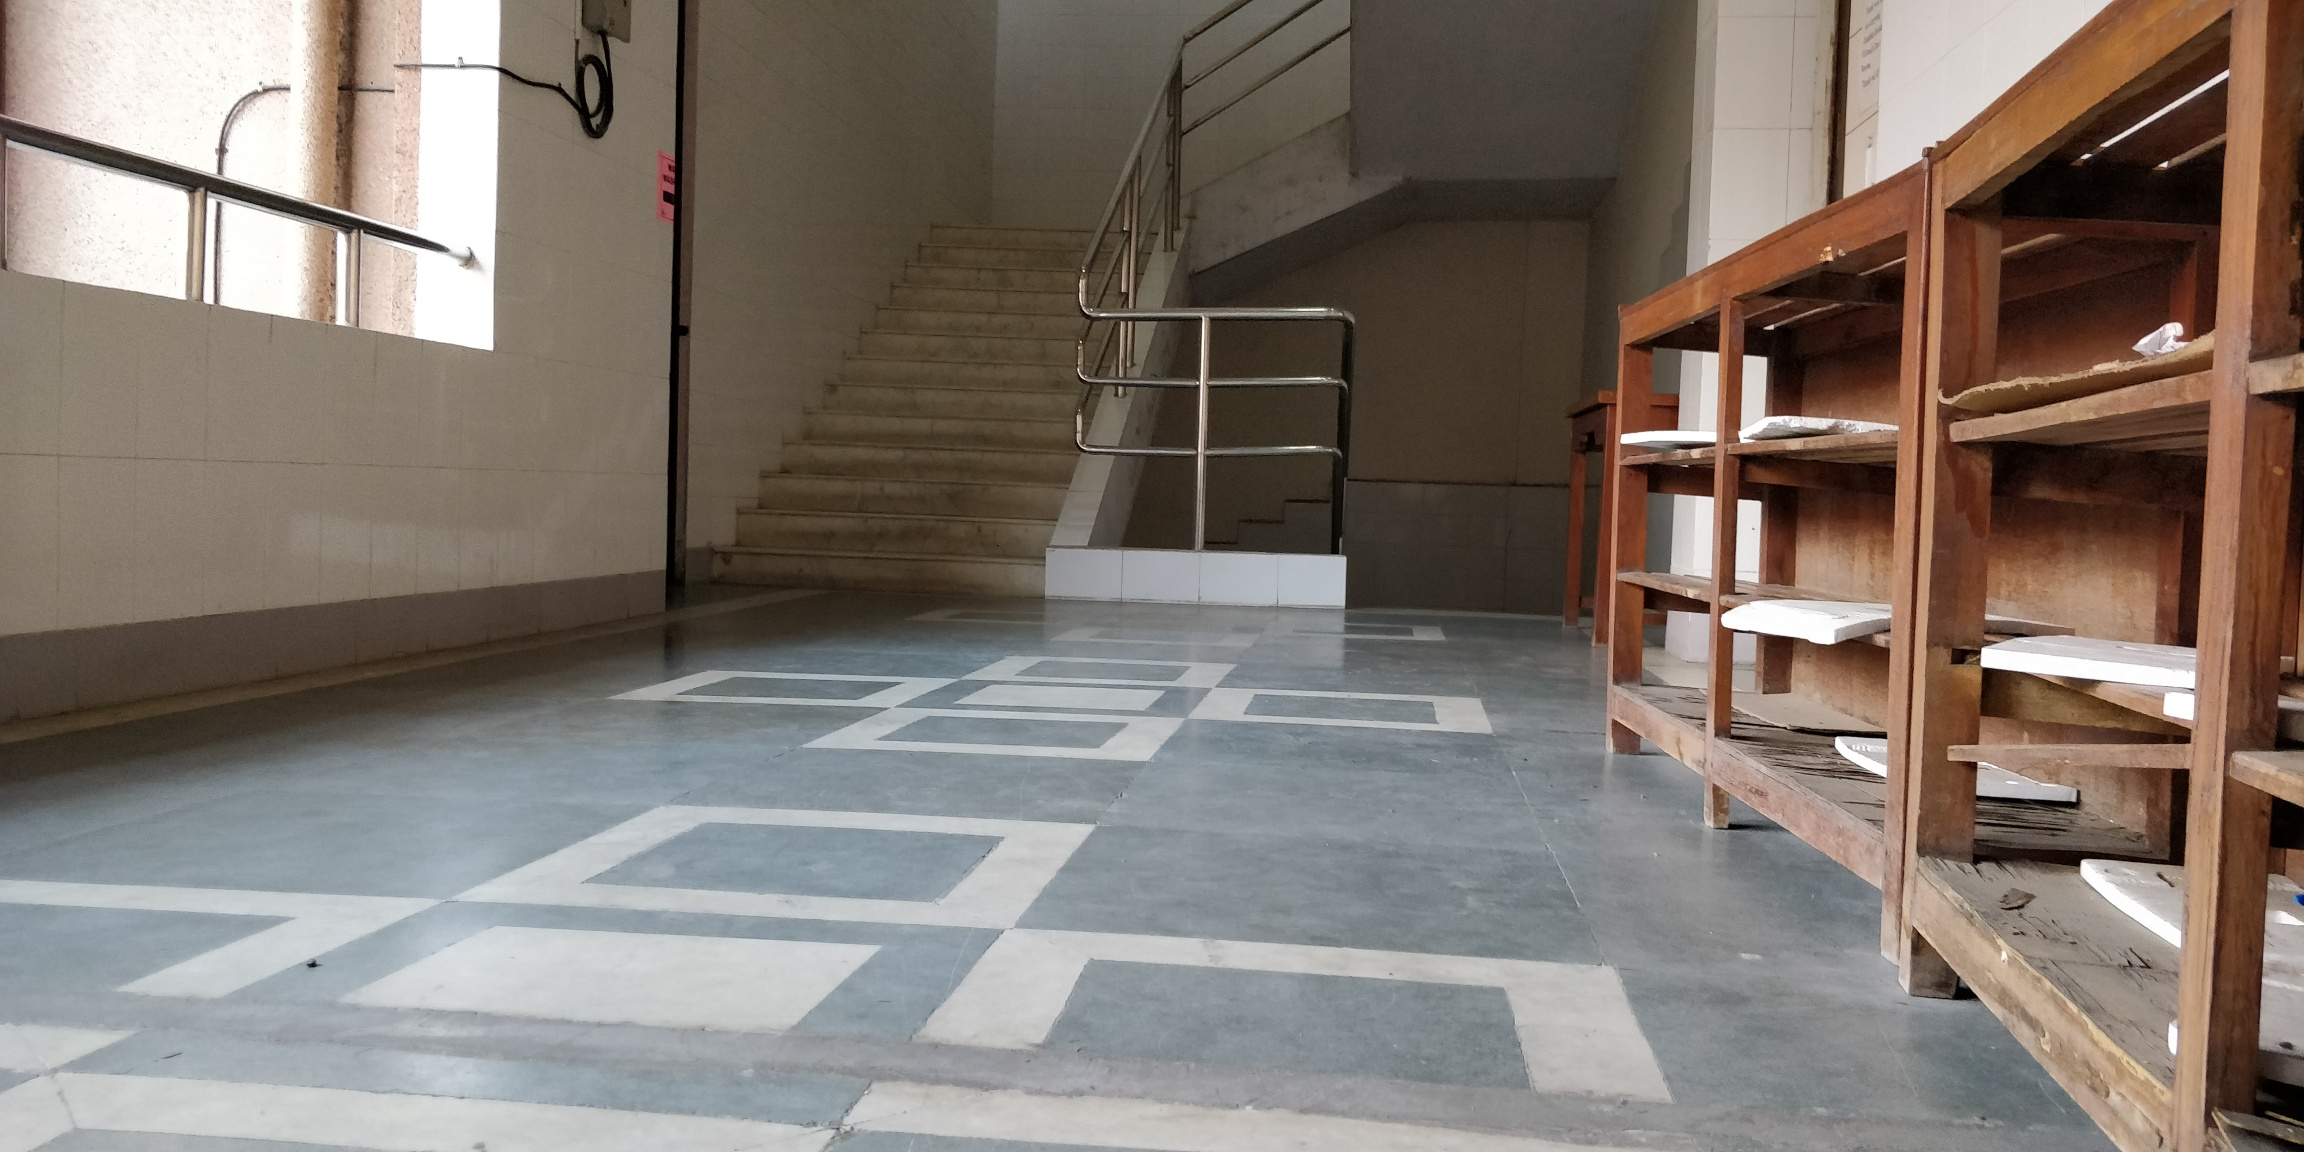stairs_up: (710, 206, 1134, 601)
